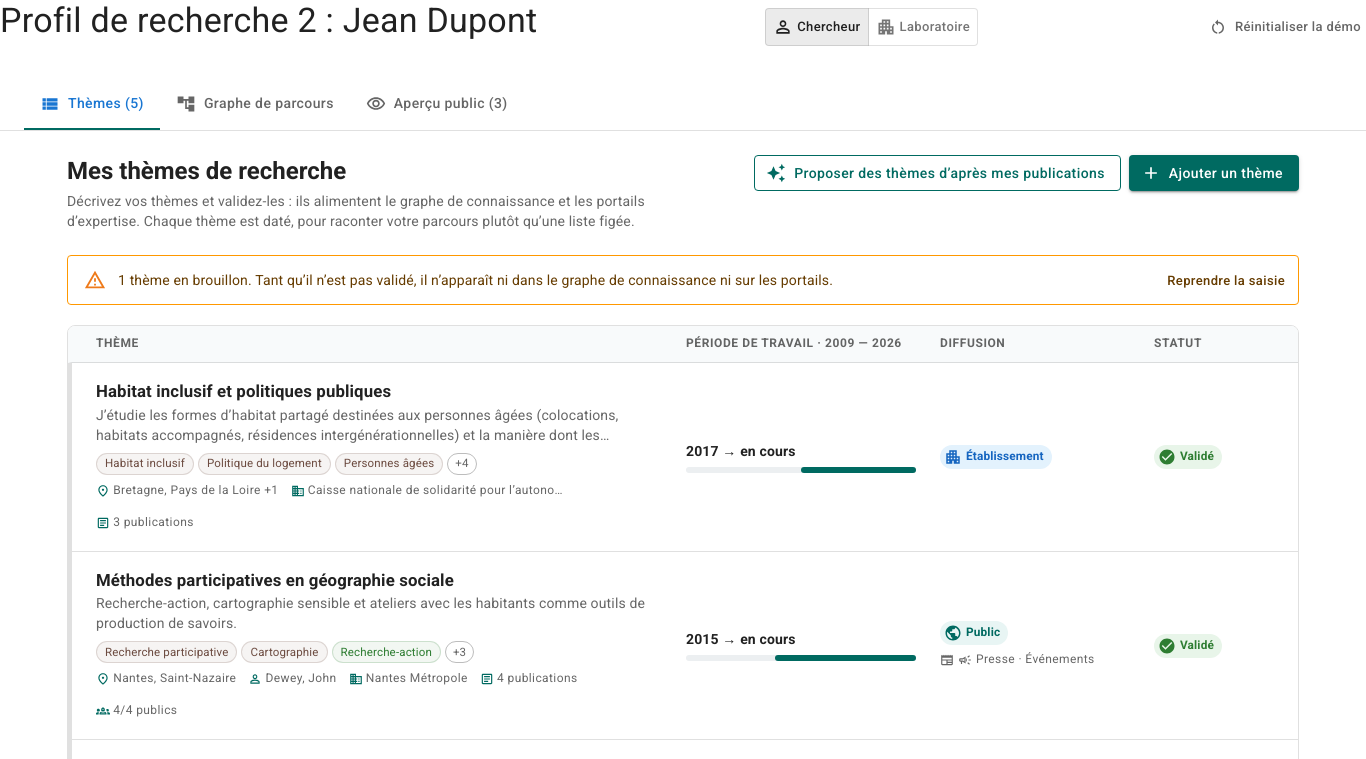
Scenario: ExpertiseV2Page › affiche la vue laboratoire agrégée à partir des thèmes des membres
The image size is (1366, 759).
Click the button "Laboratoire": click(923, 27) 868,8 -> 978,46
(page scrolled)
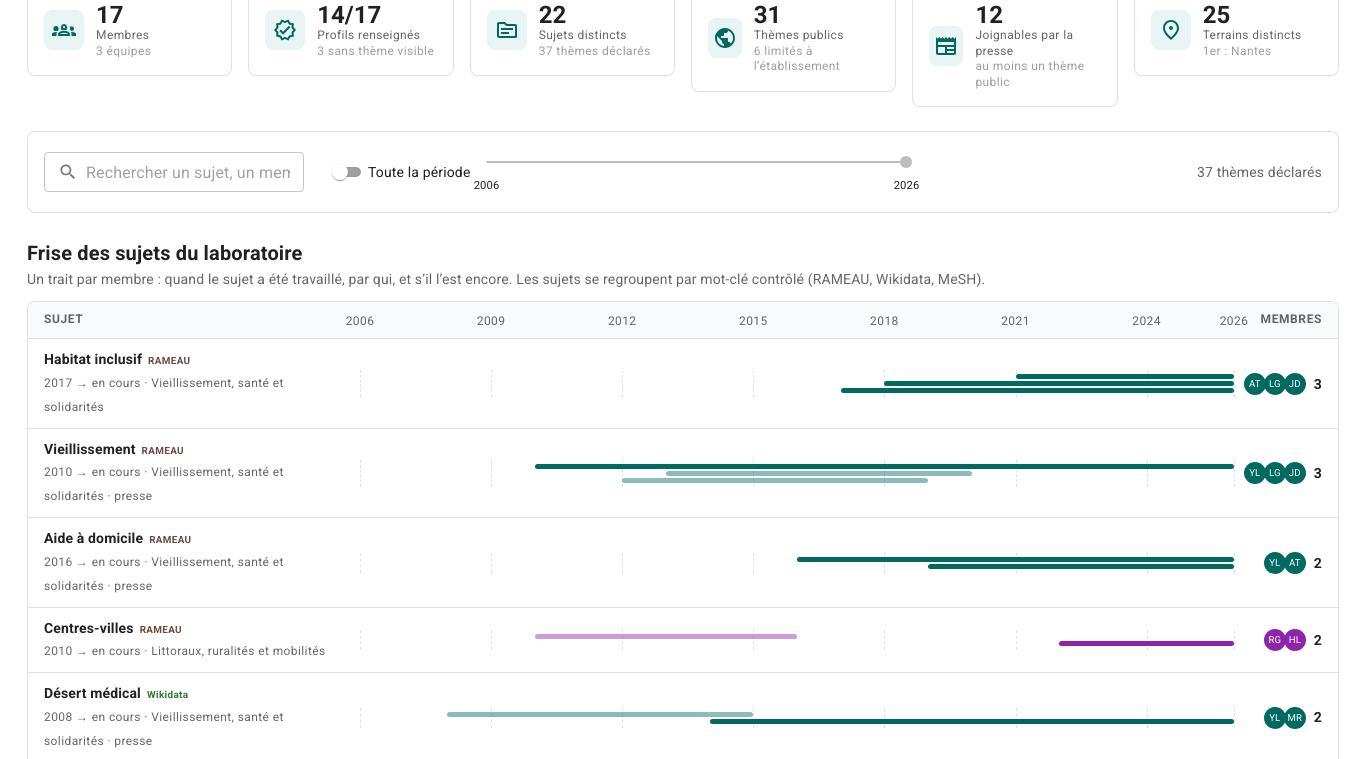
Expected: the heading "Frise des sujets du laboratoire" is shown, 27,242 -> 302,266
Expected: the text "Profils renseignés" is shown, 317,28 -> 434,44
// Un sujet partagé regroupe plusieurs membres via le mot-clé contrôlé
Click the button with aria-label "Voir les membres travaillant sur Habitat inclusif": click(93, 359) 28,339 -> 1338,429
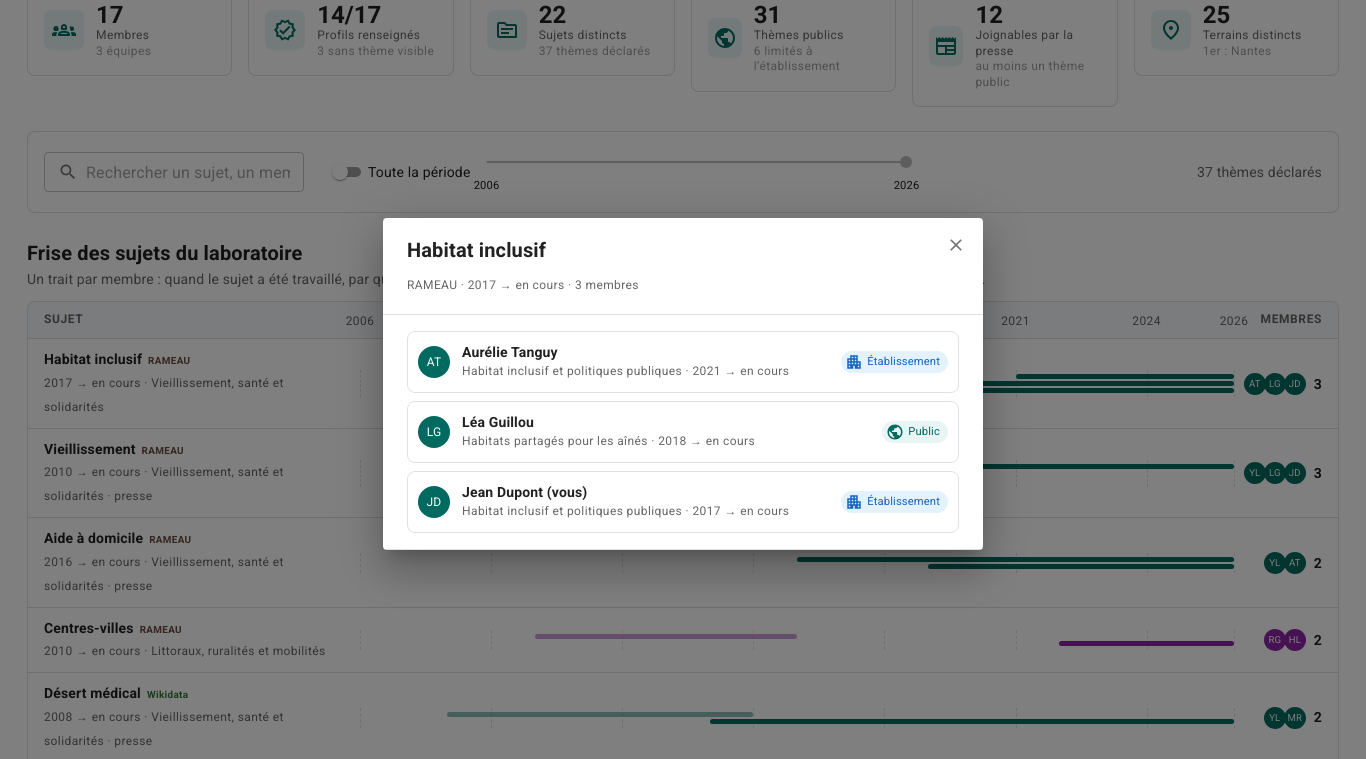
Expected: the text "Aurélie Tanguy" is shown, 462,344 -> 558,360
Expected: the text "Léa Guillou" is shown, 462,414 -> 534,430
Expected: the text "Jean Dupont (vous)" is shown, 462,484 -> 587,500
